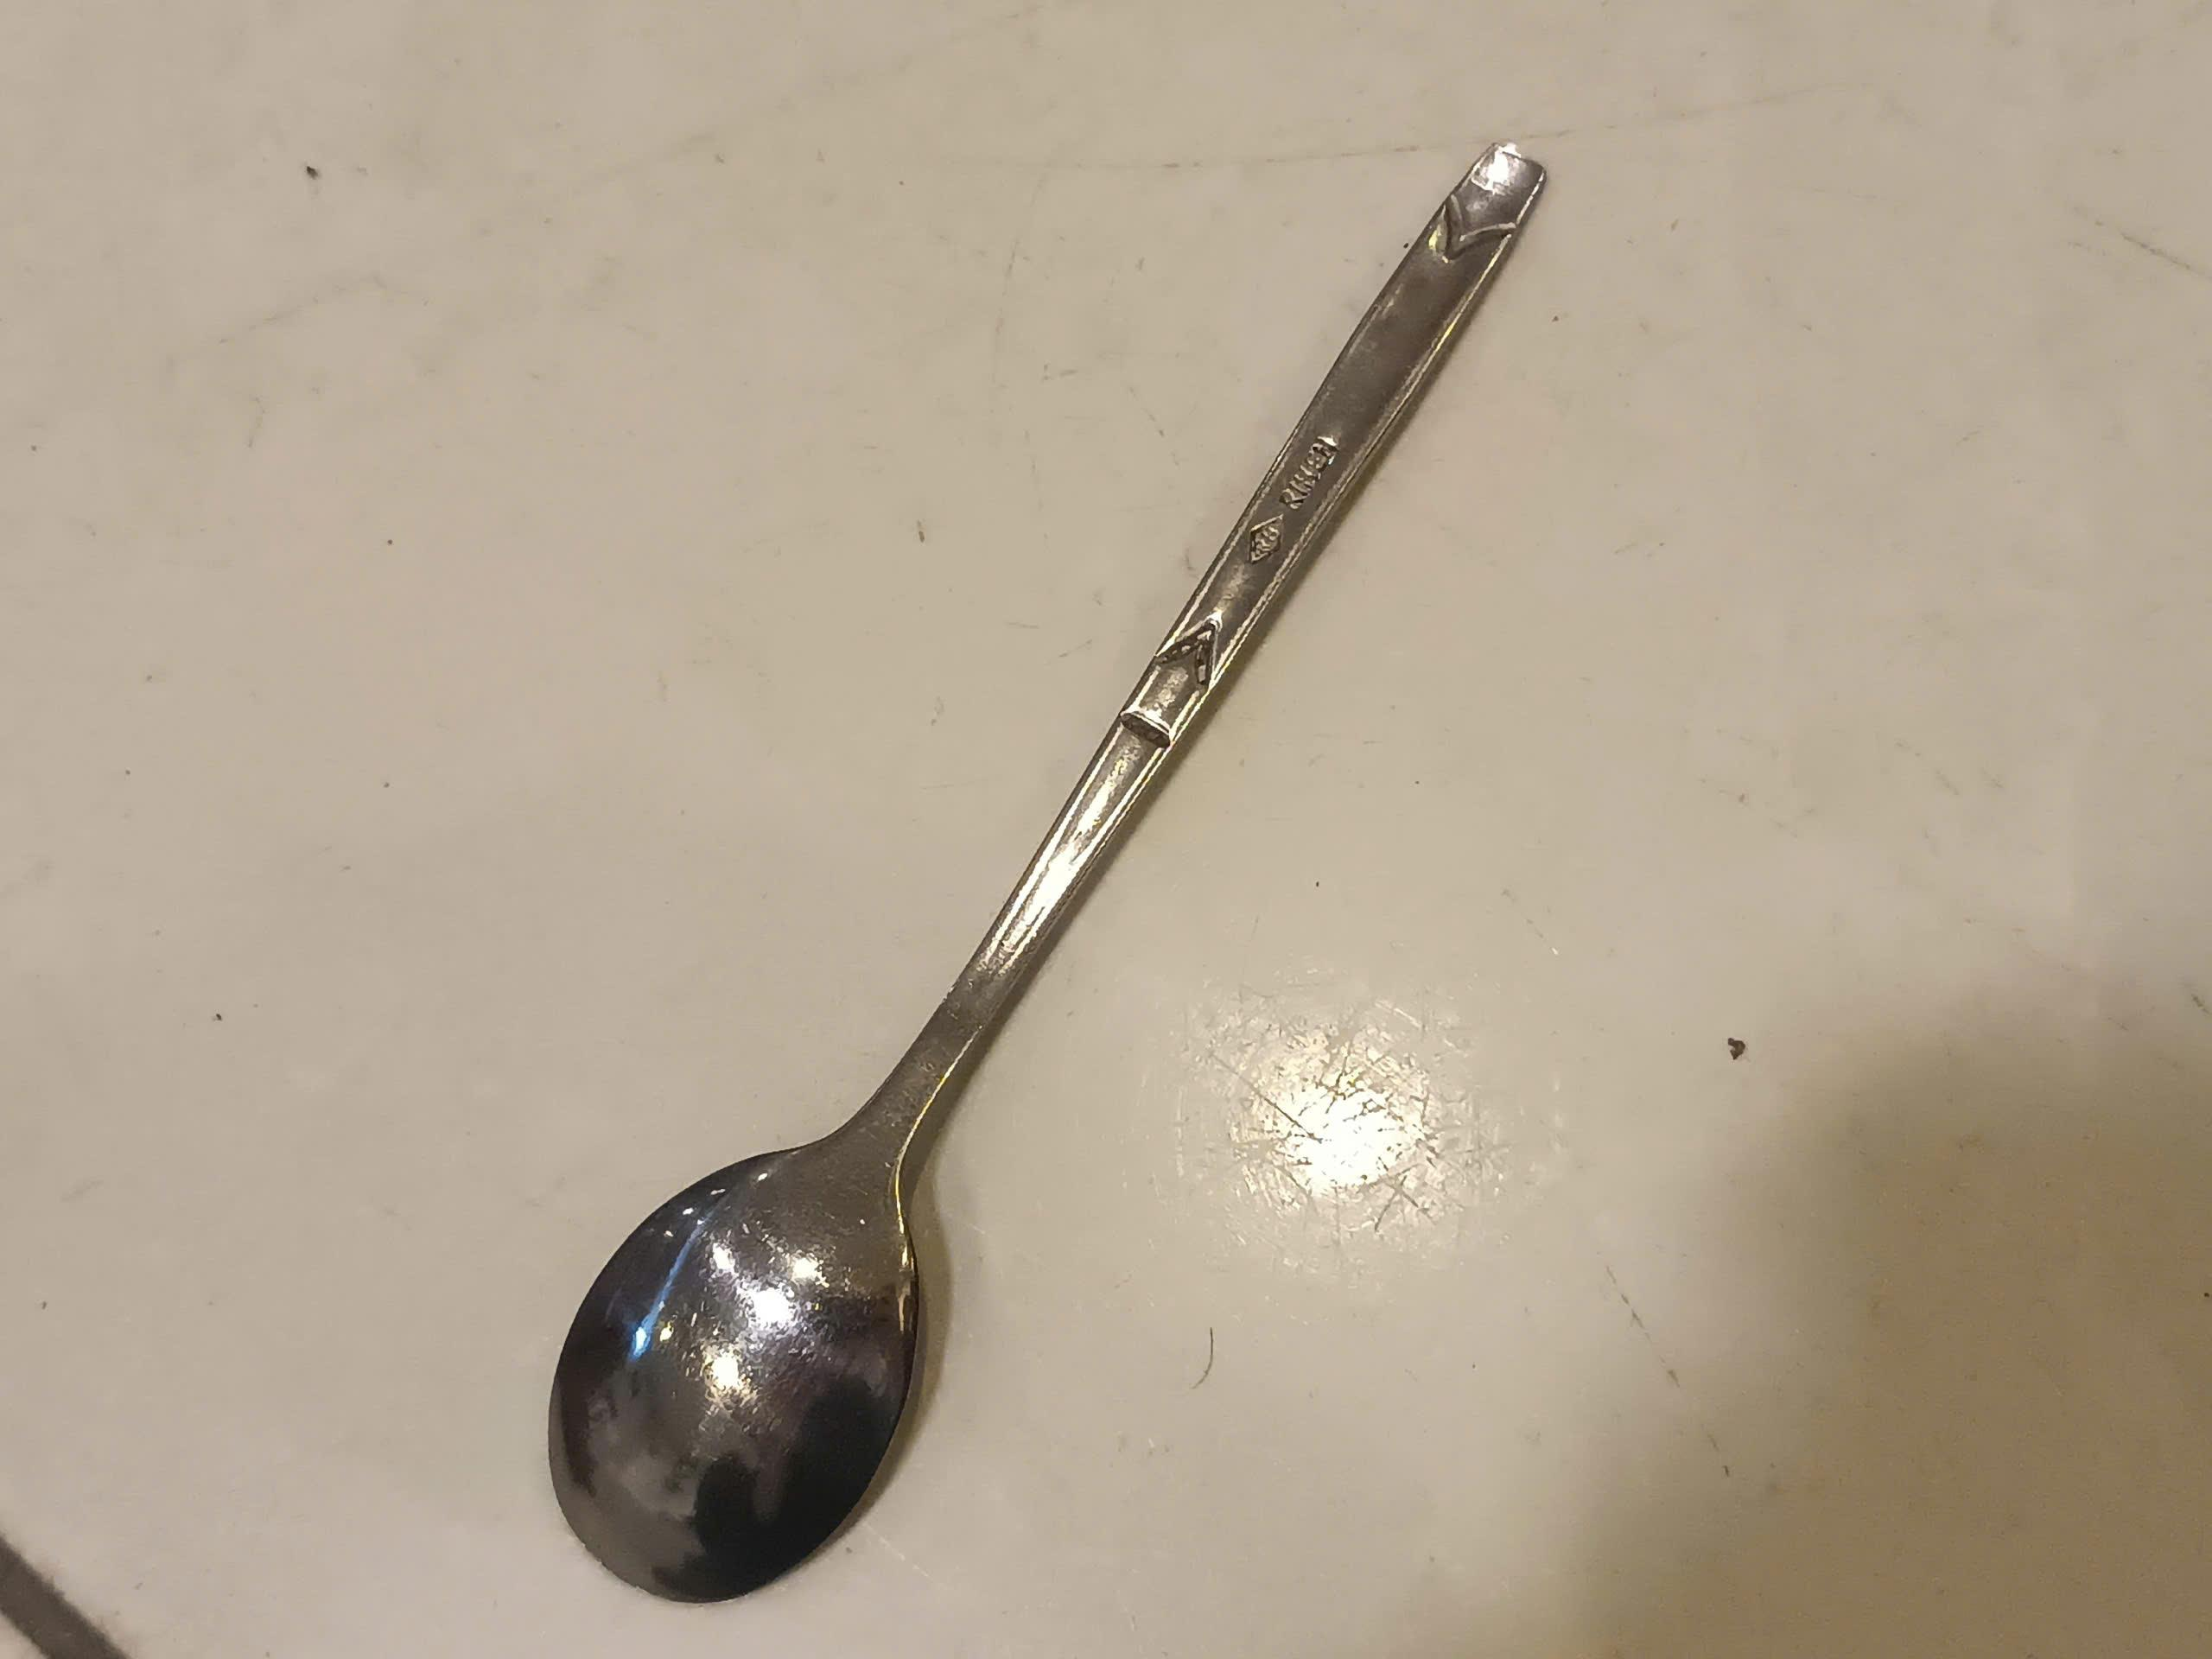Vo co: (550, 145, 1554, 1607)
